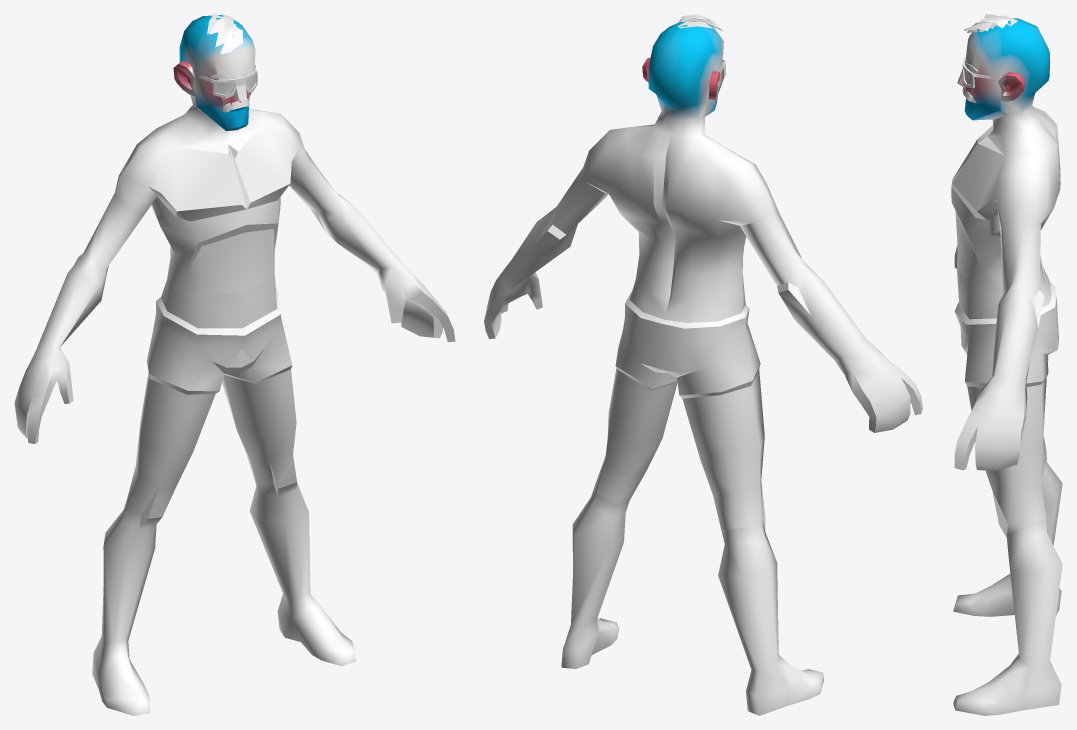
The model's file is LowPolyHuman01.fbx.
3 renders of one model, left to right at view 1: azimuth 30°, elevation 25°; view 2: azimuth 150°, elevation 25°; view 3: azimuth 270°, elevation 25°, orthographic. The views are drawn at different scales.
Parts seen in each view (by area): view 1: Cube, Hair; view 2: Cube; view 3: Cube, Hair, Okulary.
Boxes of the visible parts, x1,y1,x2,y2 form: Cube: (14, 14, 455, 715); Hair: (207, 14, 242, 54); Cube: (484, 21, 922, 715); Cube: (951, 18, 1062, 715); Hair: (963, 14, 1017, 32); Okulary: (962, 58, 1001, 88).
Size of the model in its own units: 13.03 by 19.13 by 3.02.
